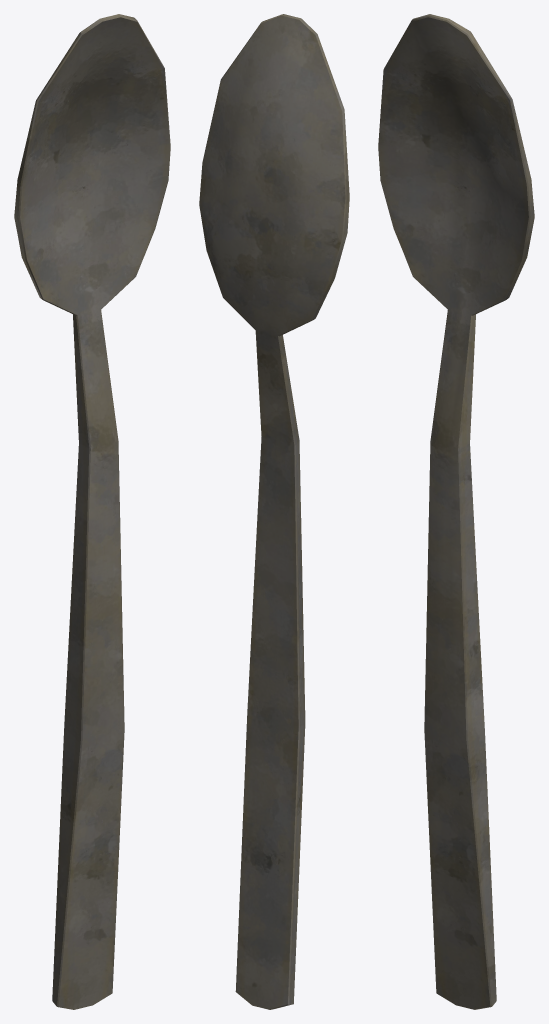
Rendered from CucharaGastada.obj.
The picture shows the model from 3 angles, left to right: view 1: azimuth 30°, elevation 25°; view 2: azimuth 150°, elevation 25°; view 3: azimuth 330°, elevation 25°; orthographic projection. The views are drawn at different scales.
Parts seen in each view (by area): view 1: obj1; view 2: obj1; view 3: obj1.
Boxes of the visible parts, x1,y1,x2,y2 form: obj1: (14, 14, 170, 1009); obj1: (199, 14, 349, 1009); obj1: (378, 14, 534, 1009).
Size of the model in its own units: 3.47 by 22.31 by 1.33.
1 material, 1 textured.
